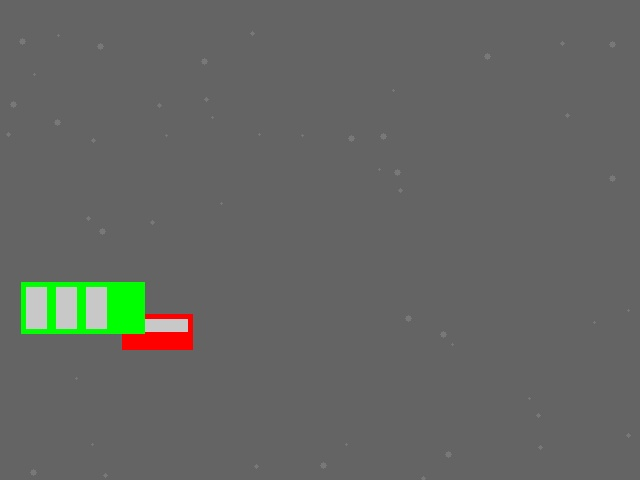bus: (21, 282, 144, 333)
car: (122, 314, 192, 349)
